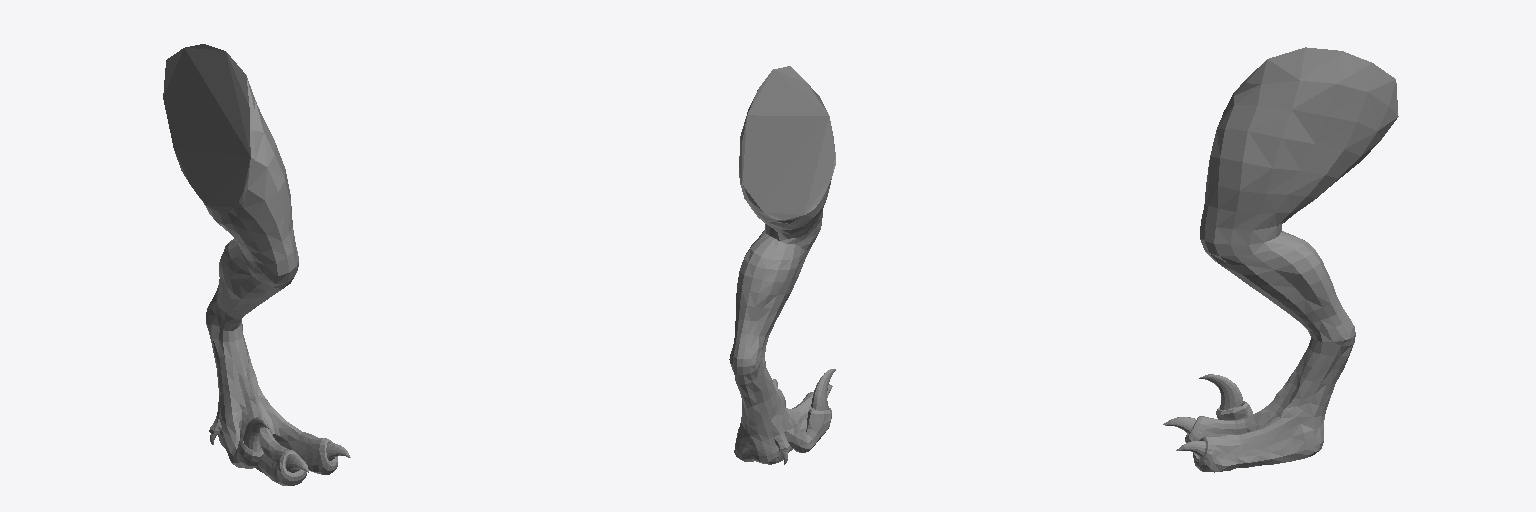
The model's file is PataIzqDino1.obj.
3 renders of one model, left to right at view 1: azimuth 30°, elevation 25°; view 2: azimuth 150°, elevation 25°; view 3: azimuth 270°, elevation 25°, orthographic.
Parts seen in each view (by area): view 1: Raptor0; view 2: Raptor0; view 3: Raptor0.
Boxes of the visible parts, x1=… form: Raptor0: x1=163, y1=44, x2=350, y2=485; Raptor0: x1=729, y1=66, x2=835, y2=464; Raptor0: x1=1163, y1=47, x2=1398, y2=472.
Size of the model in its own units: 3.27 by 13.86 by 7.44.